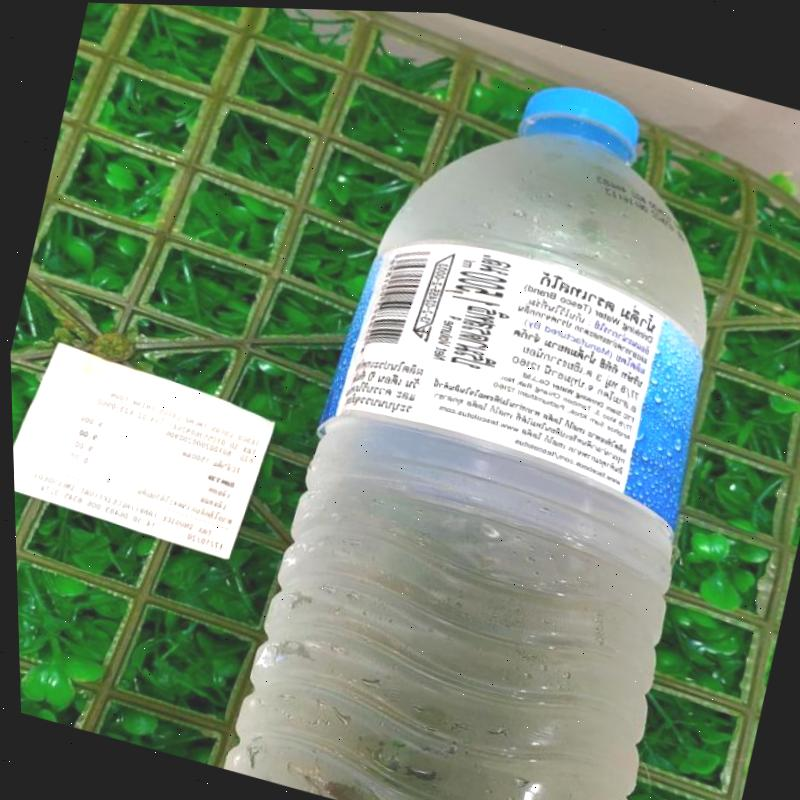botella: (197, 21, 799, 800)
